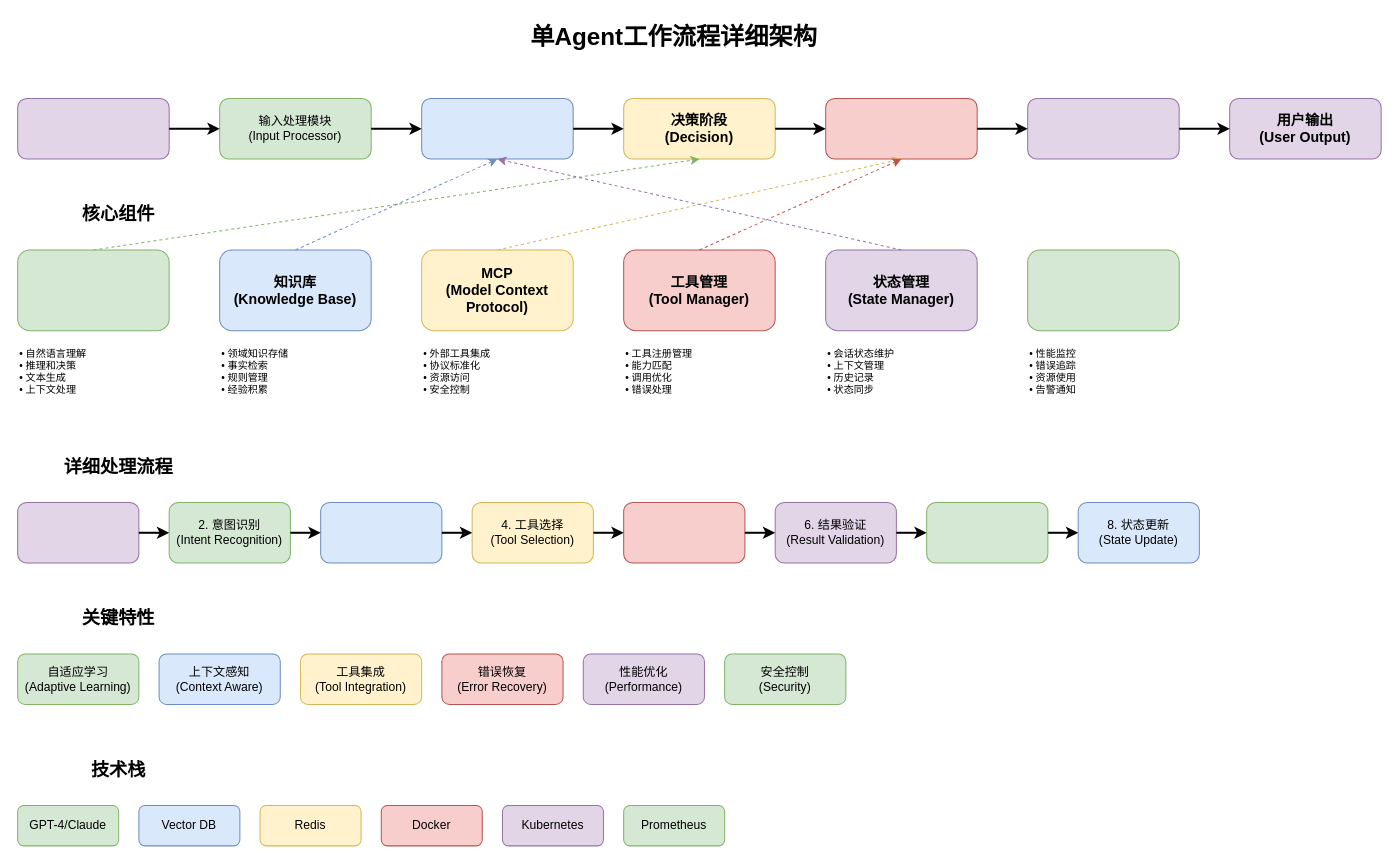
The diagram is 1399 pixels wide and 864 high, and some of its shapes have lost their labels. The centre of each missing label's shape, as x and y in pixels:
"1. 输入解析 (Input Parsing)" goes at (78,532).
"3. 知识检索 (Knowledge Retrieval)" goes at (381,532).
"5. 执行调用 (Execution)" goes at (684,532).
"7. 响应生成 (Response Generation)" goes at (987,532).
"LLM (大语言模型)" goes at (93,290).
"感知阶段 (Perception)" goes at (497,128).
"执行阶段 (Action)" goes at (901,128).
"用户输入 (User Input)" goes at (93,128).
"监控系统 (Monitoring)" goes at (1103,290).
"输出生成 (Output Generator)" goes at (1103,128).
